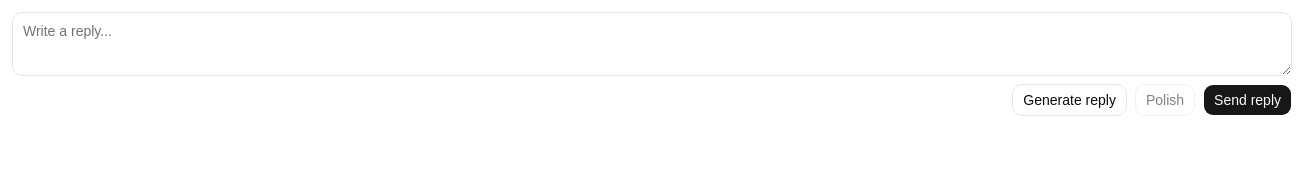
Scenario: ReplyForm › generates a reply from scratch and fills the (empty) draft with it
The width and height of the screenshot is (1304, 172).
Click the button "Generate reply" at (1070, 100), box x1=1012 y1=84 x2=1127 y2=116
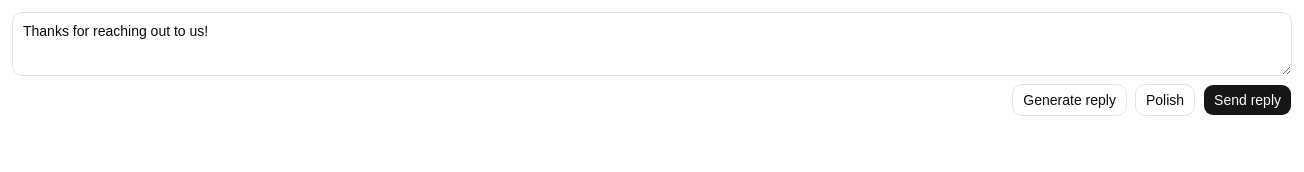
Expected: the text box named "reply" holds "Thanks for reaching out to us!", x1=12 y1=12 x2=1292 y2=76
